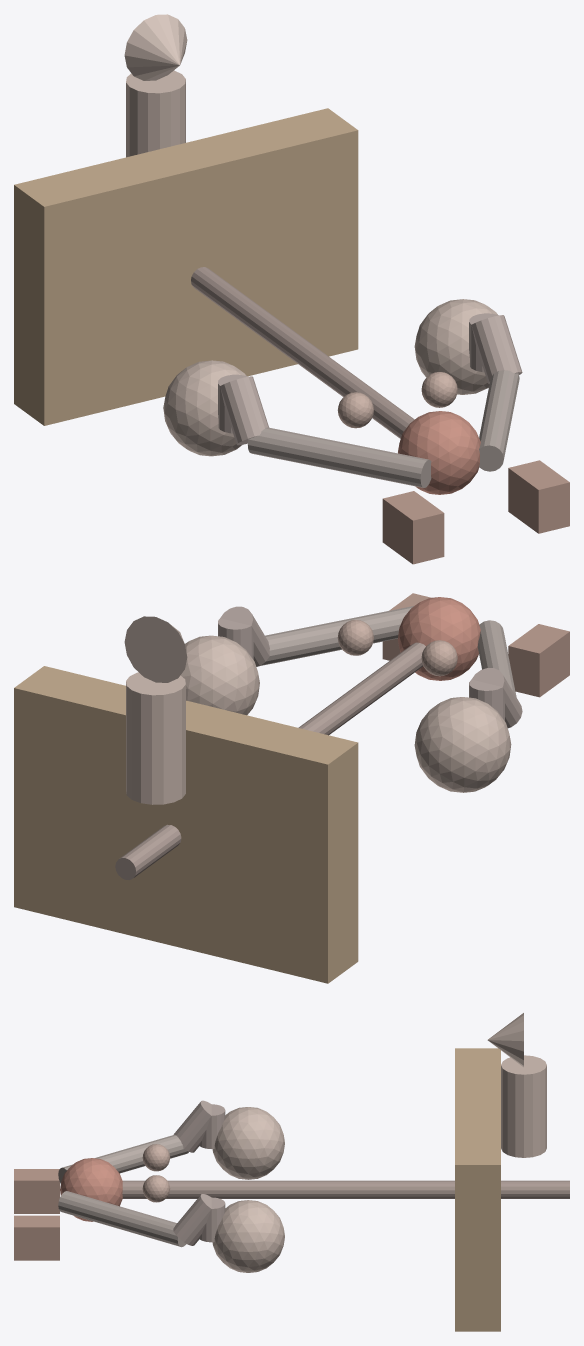
File: male_reproductive_system.glb
The picture shows the model from 3 angles, top to bottom: view 1: azimuth 30°, elevation 25°; view 2: azimuth 150°, elevation 25°; view 3: azimuth 270°, elevation 25°; orthographic projection. The views are drawn at different scales.
Visible parts, largest first — view 1: world; view 2: world; view 3: world.
Boxes of the visible parts, bbox=[...] form: world: bbox=[14, 14, 569, 564]; world: bbox=[14, 593, 569, 983]; world: bbox=[14, 1013, 569, 1331].
Size of the model in its own units: 3.2 by 3.1 by 6.05.
